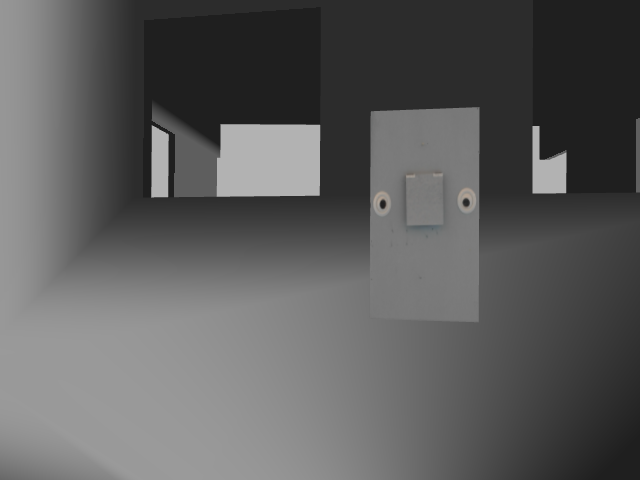facade: (370, 170, 478, 230)
